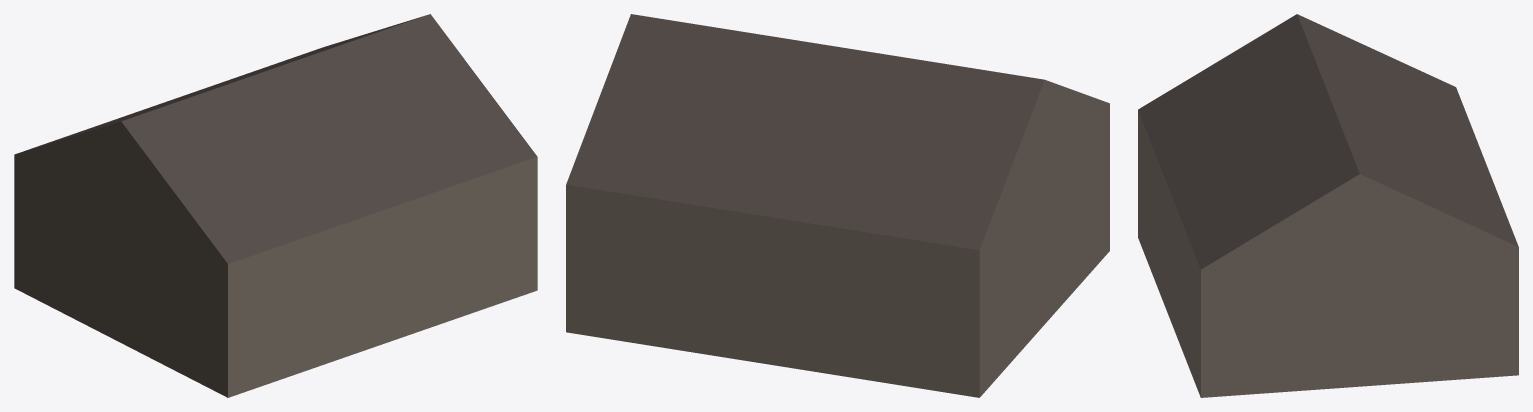
3 renders of one model, left to right at view 1: azimuth 30°, elevation 25°; view 2: azimuth 150°, elevation 25°; view 3: azimuth 270°, elevation 25°, orthographic. The views are drawn at different scales.
Visible parts, largest first — view 1: HP-w858807480; view 2: HP-w858807480; view 3: HP-w858807480.
Boxes of the visible parts, bbox=[...] form: HP-w858807480: bbox=[14, 14, 537, 397]; HP-w858807480: bbox=[566, 14, 1109, 397]; HP-w858807480: bbox=[1138, 14, 1518, 397].
Size of the model in its own units: 9.16 by 4.97 by 8.07.
